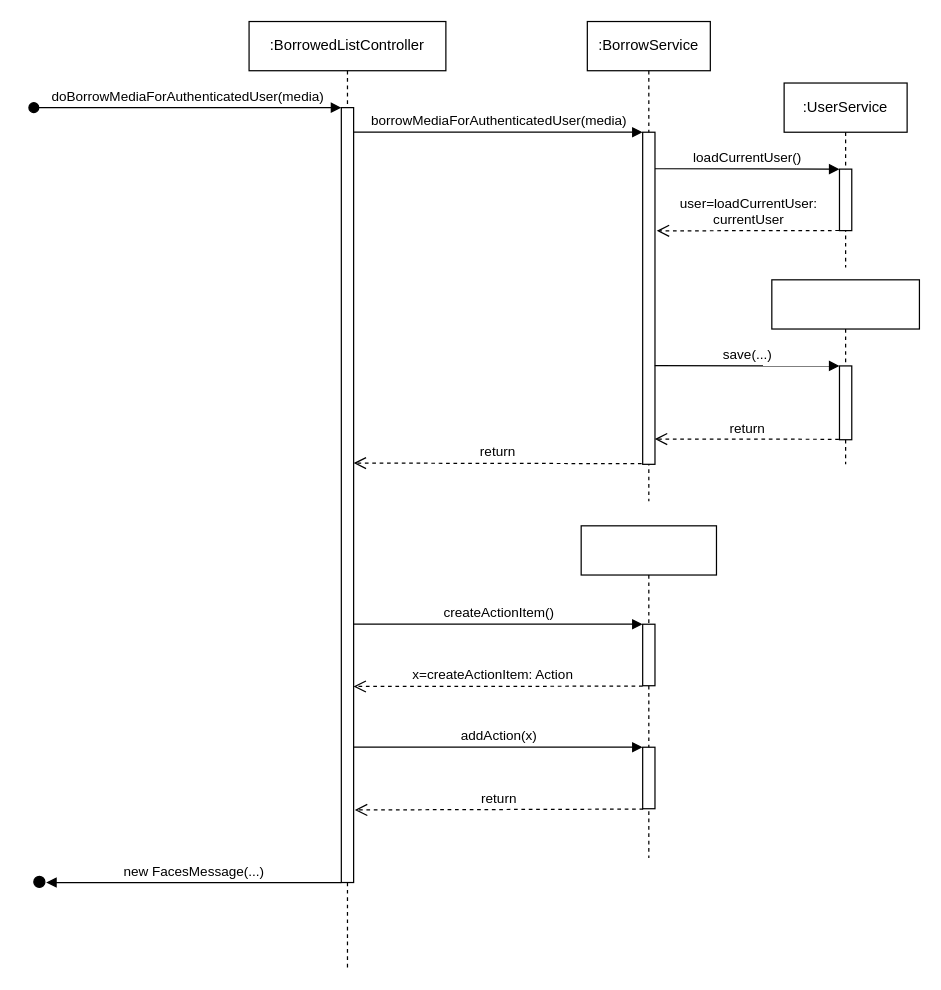
Image size: 941x990. Some labels were removed from this diagram. Here are the shapes that lost their labels. From the top down, the box of each, then its label:
(771, 279, 919, 464): :BorrowedRepository
(580, 525, 716, 858): :UndoRedoService
